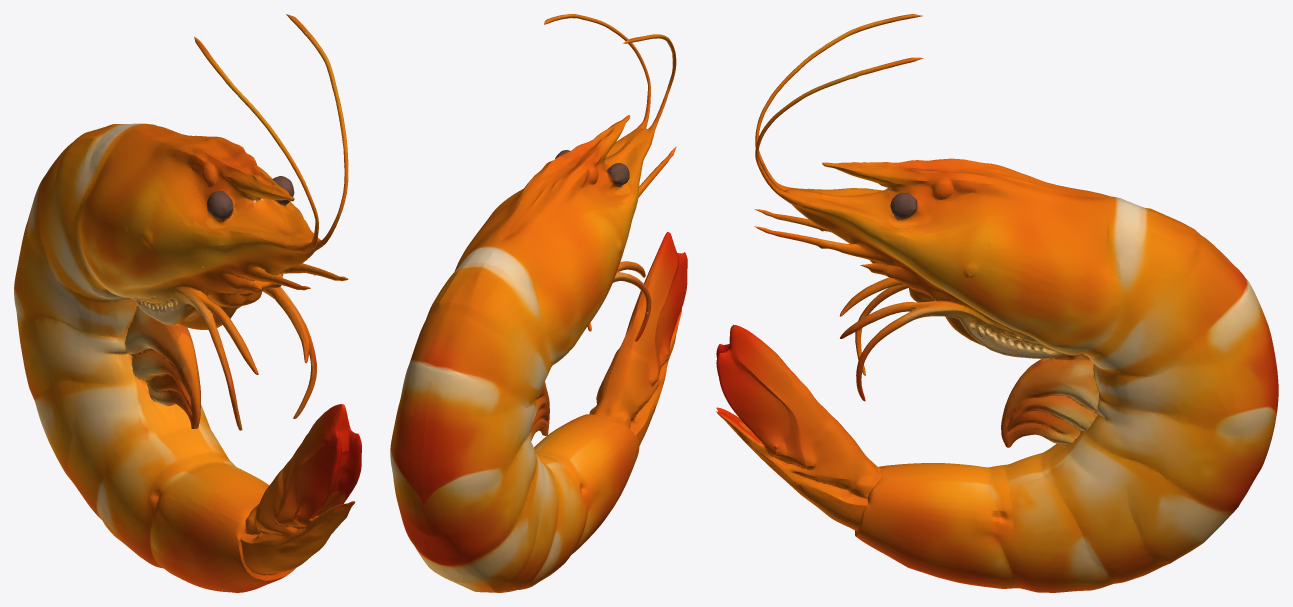
Rendered from promptplay-shrimp-1817.glb.
The picture shows the model from 3 angles, left to right: view 1: azimuth 30°, elevation 25°; view 2: azimuth 150°, elevation 25°; view 3: azimuth 270°, elevation 25°; orthographic projection. The views are drawn at different scales.
Visible parts, largest first — view 1: Geom3D; view 2: Geom3D; view 3: Geom3D.
Boxes of the visible parts, box(x1,y1,x2,y2) form: Geom3D: box(14, 14, 361, 592); Geom3D: box(390, 14, 687, 592); Geom3D: box(716, 14, 1278, 592).
Size of the model in its own units: 0.4924 by 1.9 by 1.76.
Materials: 1 (1 with a texture image).
